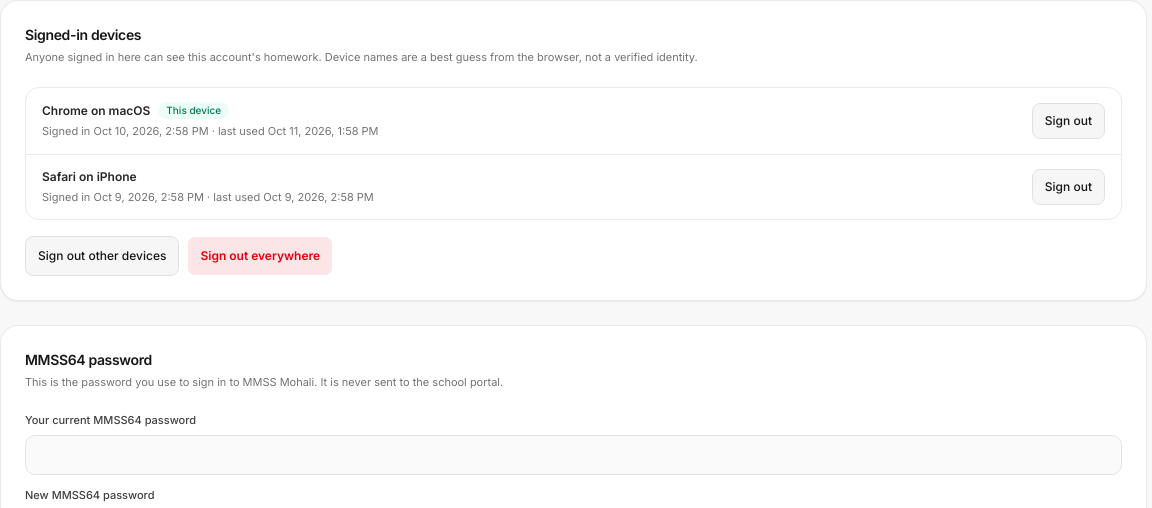
Test case: AccountSecurityPanel › signs out every other device but this one
This screenshot has width=1152, height=508.
Click the button "Sign out other devices" at point(102, 256), box [25,236,179,276]
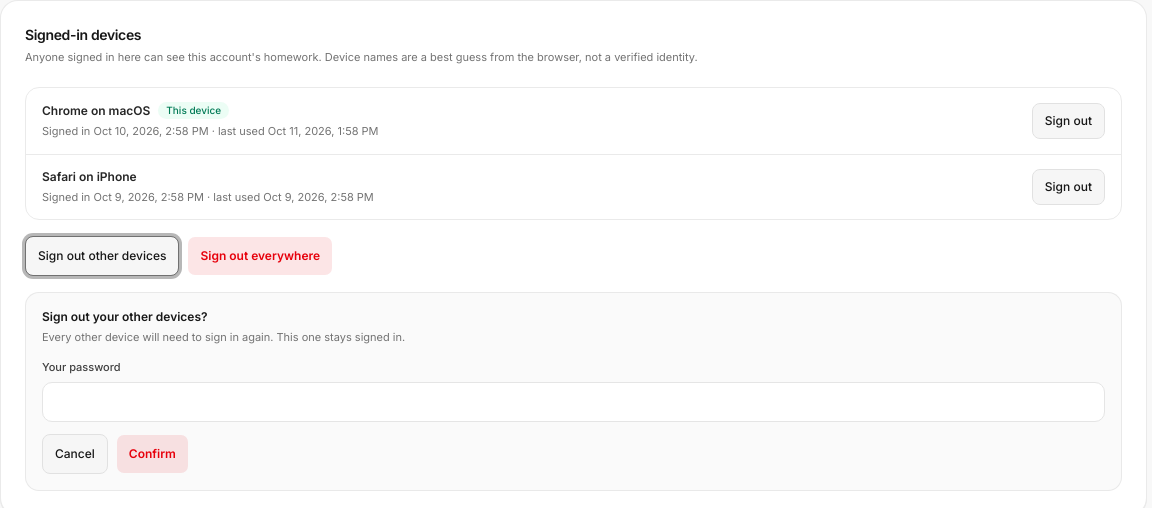
Expected: the text "Every other device will need to sign in again" is shown, [42,330,405,344]
Type "my-password" into the password field labelled "Your password" at point(574, 402), box [42,382,1105,422]
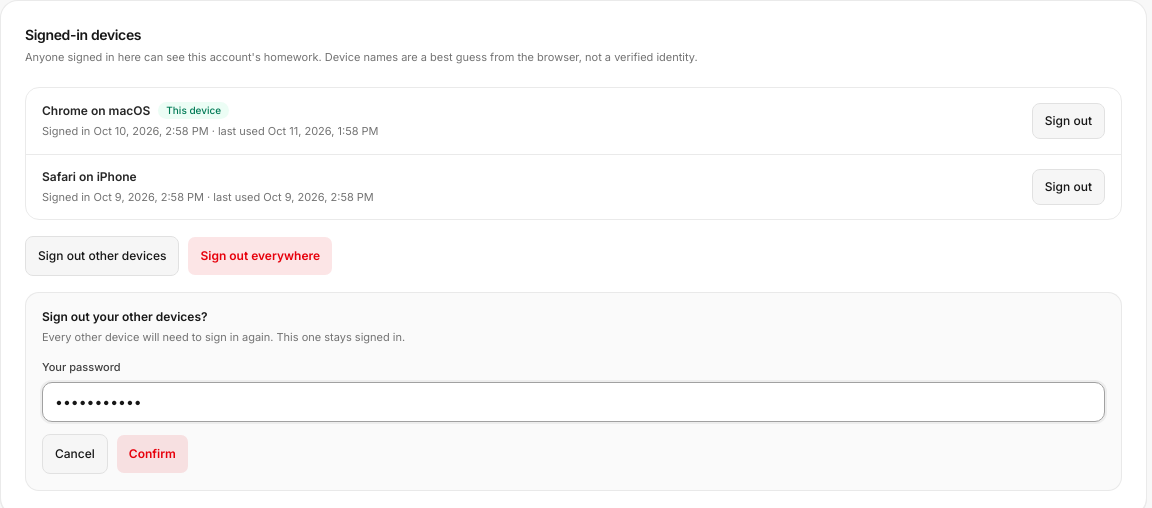
Click the button "Confirm" at point(152, 454), box [116,434,189,474]
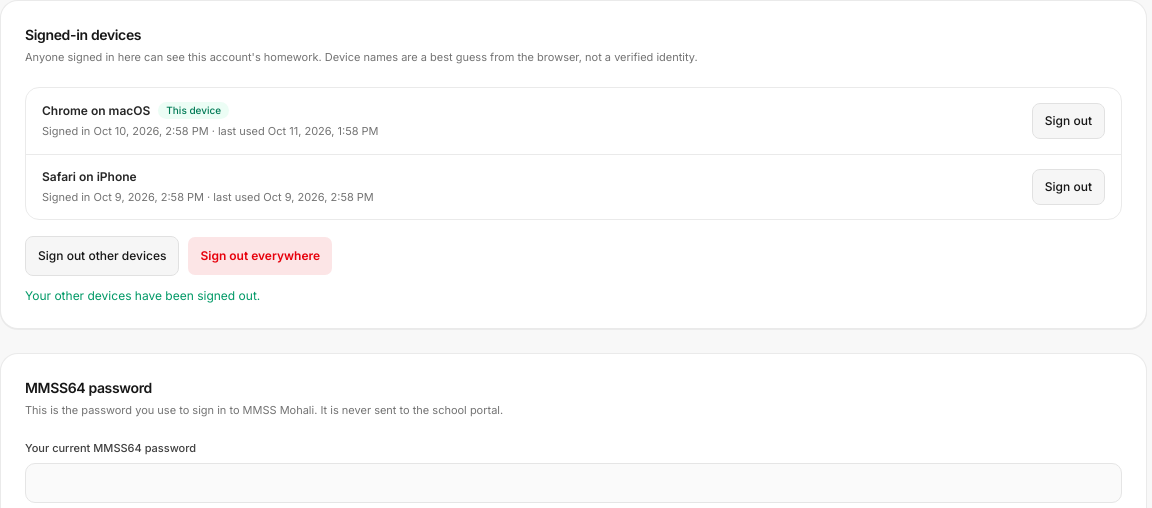
Expected: the text "Your other devices have been signed out." is shown, [25,288,260,303]
